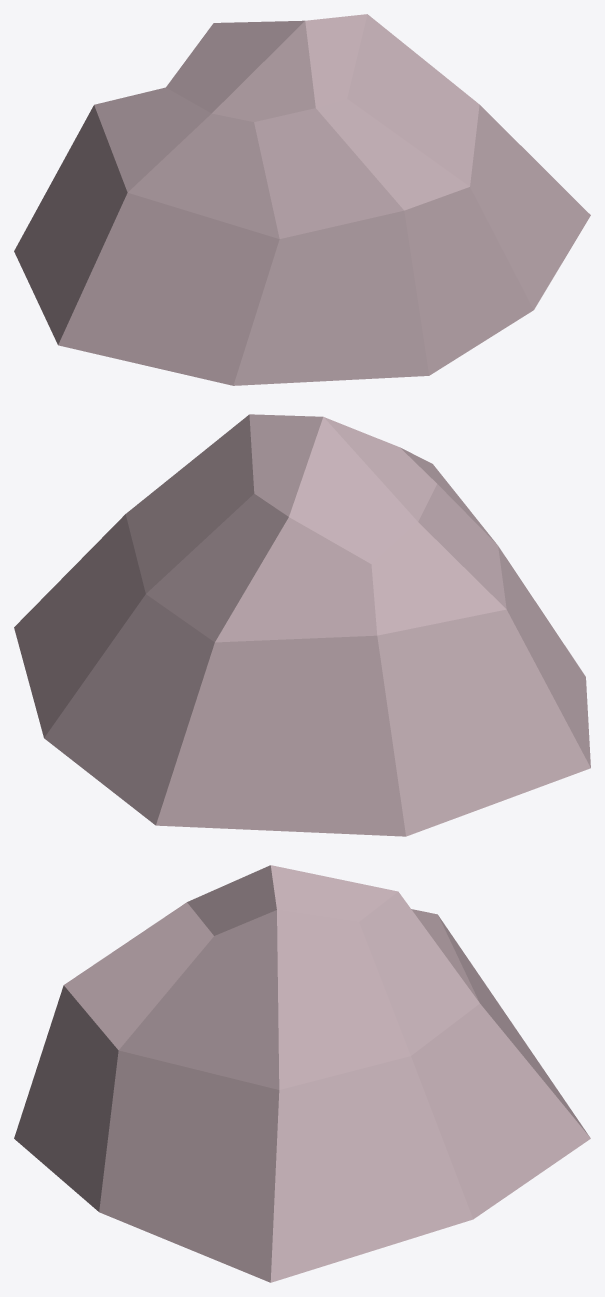
File: a_rock1.fbx
3 renders of one model, top to bottom at view 1: azimuth 30°, elevation 25°; view 2: azimuth 150°, elevation 25°; view 3: azimuth 270°, elevation 25°, orthographic. The views are drawn at different scales.
Parts seen in each view (by area): view 1: pCube1; view 2: pCube1; view 3: pCube1.
Boxes of the visible parts, box(x1,y1,x2,y2) form: pCube1: box(14, 14, 590, 385); pCube1: box(14, 414, 590, 836); pCube1: box(14, 865, 590, 1282).
Bounding box in the file's own units: 11.82 × 5.6 × 10.71.
